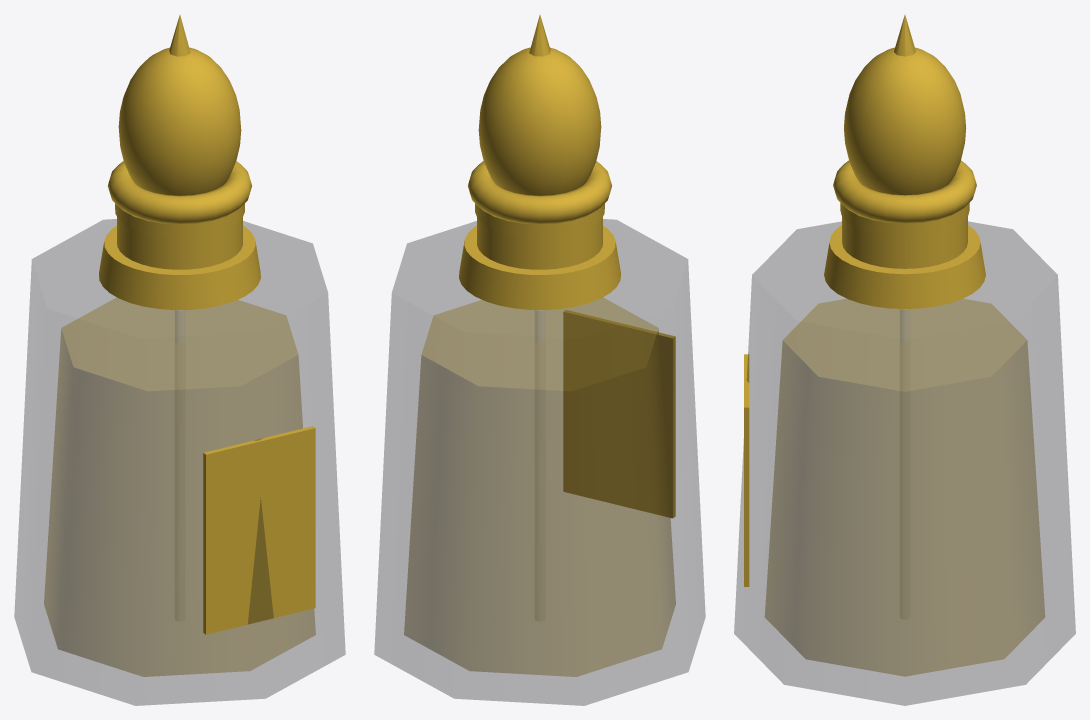
The model's file is ittar_bottle_draco.glb.
3 renders of one model, left to right at view 1: azimuth 30°, elevation 25°; view 2: azimuth 150°, elevation 25°; view 3: azimuth 270°, elevation 25°, orthographic.
Visible parts, largest first — view 1: GlassBody, PerfumeLiquid, CapGroup, GoldLabel, GoldCollar, GoldNeck; view 2: GlassBody, PerfumeLiquid, CapGroup, GoldLabel, GoldCollar, GoldNeck; view 3: GlassBody, PerfumeLiquid, CapGroup, GoldCollar, GoldNeck, GoldLabel.
Part boxes in pixels (x1=…): GlassBody: x1=14, y1=219, x2=345, y2=705; PerfumeLiquid: x1=44, y1=298, x2=315, y2=676; CapGroup: x1=108, y1=15, x2=251, y2=237; GoldLabel: x1=203, y1=426, x2=315, y2=634; GoldCollar: x1=99, y1=225, x2=260, y2=309; GoldNeck: x1=117, y1=217, x2=242, y2=269; GlassBody: x1=374, y1=219, x2=705, y2=705; PerfumeLiquid: x1=404, y1=298, x2=675, y2=676; CapGroup: x1=468, y1=15, x2=611, y2=237; GoldLabel: x1=563, y1=310, x2=675, y2=518; GoldCollar: x1=459, y1=225, x2=620, y2=309; GoldNeck: x1=477, y1=217, x2=602, y2=269; GlassBody: x1=734, y1=221, x2=1075, y2=705; PerfumeLiquid: x1=765, y1=299, x2=1044, y2=676; CapGroup: x1=833, y1=15, x2=976, y2=236; GoldCollar: x1=824, y1=225, x2=985, y2=308; GoldNeck: x1=842, y1=216, x2=967, y2=268; GoldLabel: x1=744, y1=354, x2=749, y2=586.
Size of the model in its own units: 1.9 by 3.8 by 1.9.
